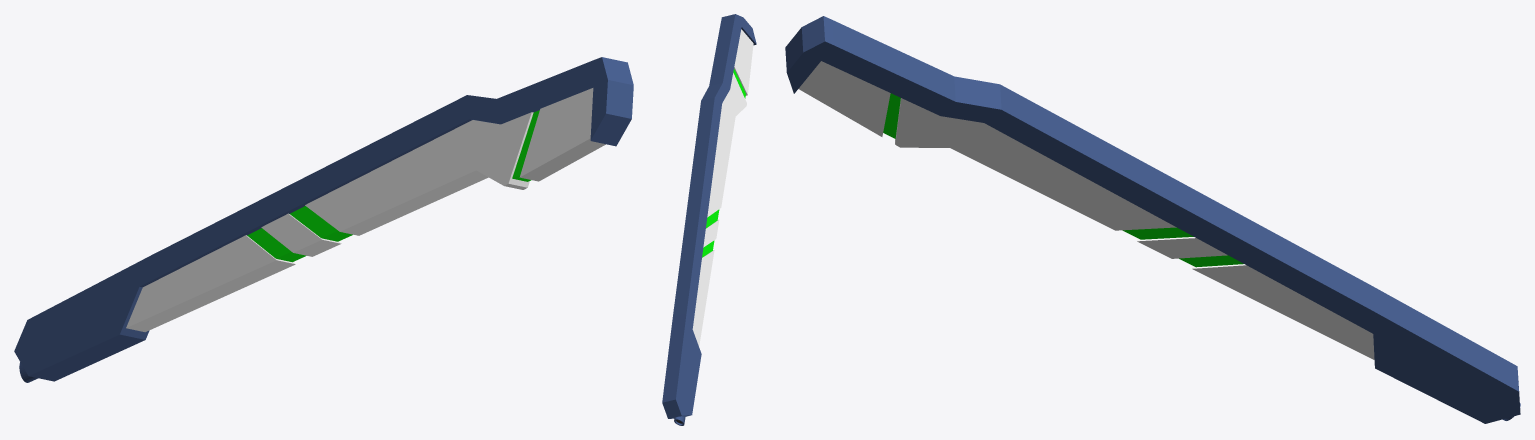
File: Idle_Bit_R_03.fbx
3 views of the same model, side by side, from view 1: azimuth 30°, elevation 25°; view 2: azimuth 150°, elevation 25°; view 3: azimuth 270°, elevation 25° (orthographic). The views are drawn at different scales.
Visible parts, largest first — view 1: Cube.016, Cube.015, Cube.014; view 2: Cube.015, Cube.016, Cube.014; view 3: Cube.015, Cube.016, Cube.014.
Part boxes in pixels (box(x1,y1,x2,y2)): Cube.016: box(126, 88, 605, 332); Cube.015: box(14, 57, 633, 381); Cube.014: box(247, 206, 352, 262); Cube.015: box(662, 14, 756, 418); Cube.016: box(692, 29, 753, 346); Cube.014: box(702, 209, 719, 257); Cube.015: box(785, 16, 1520, 423); Cube.016: box(798, 61, 1374, 359); Cube.014: box(1122, 227, 1243, 267).
Bounding box in the file's own units: 49.49 × 90.76 × 117.
